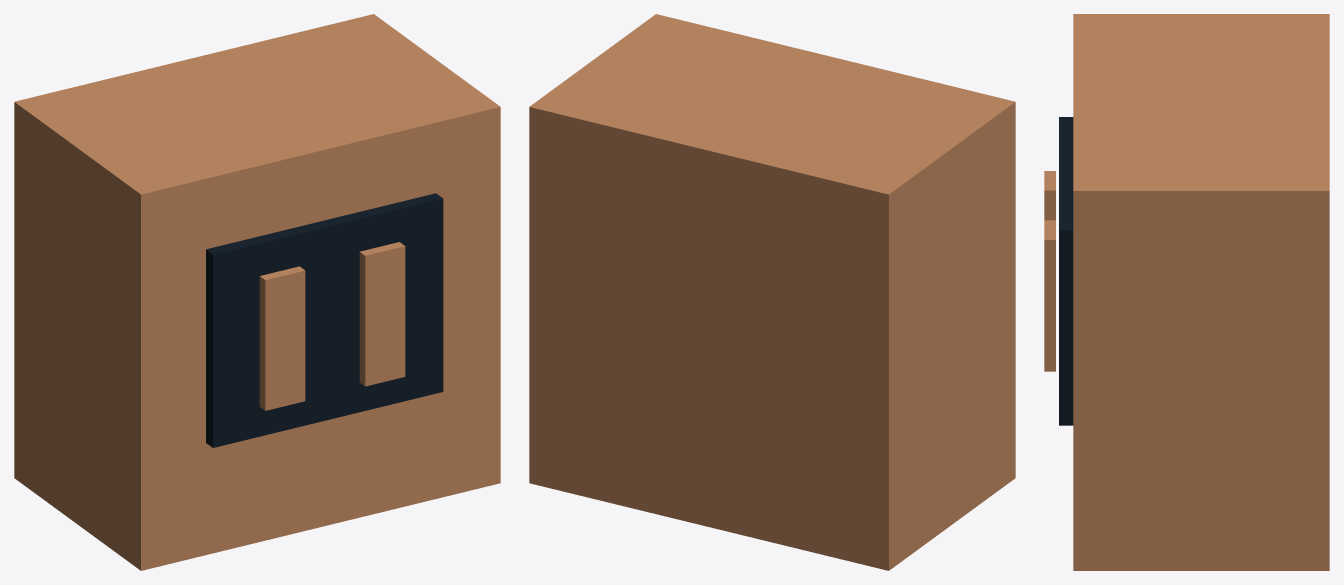
Rendered from item-food.glb.
3 renders of one model, left to right at view 1: azimuth 30°, elevation 25°; view 2: azimuth 150°, elevation 25°; view 3: azimuth 270°, elevation 25°, orthographic.
Visible parts, largest first — view 1: package, label, food-bar (×2); view 2: package; view 3: package, label, food-bar (×2).
Boxes of the visible parts, box(x1,y1,x2,y2) form: package: box(14, 14, 500, 570); label: box(206, 193, 443, 447); food-bar (×2): box(259, 242, 405, 410); package: box(529, 14, 1015, 570); package: box(1073, 14, 1329, 570); label: box(1059, 117, 1073, 425); food-bar (×2): box(1044, 171, 1055, 371).
Bounding box in the file's own units: 0.72 × 0.72 × 0.49.
